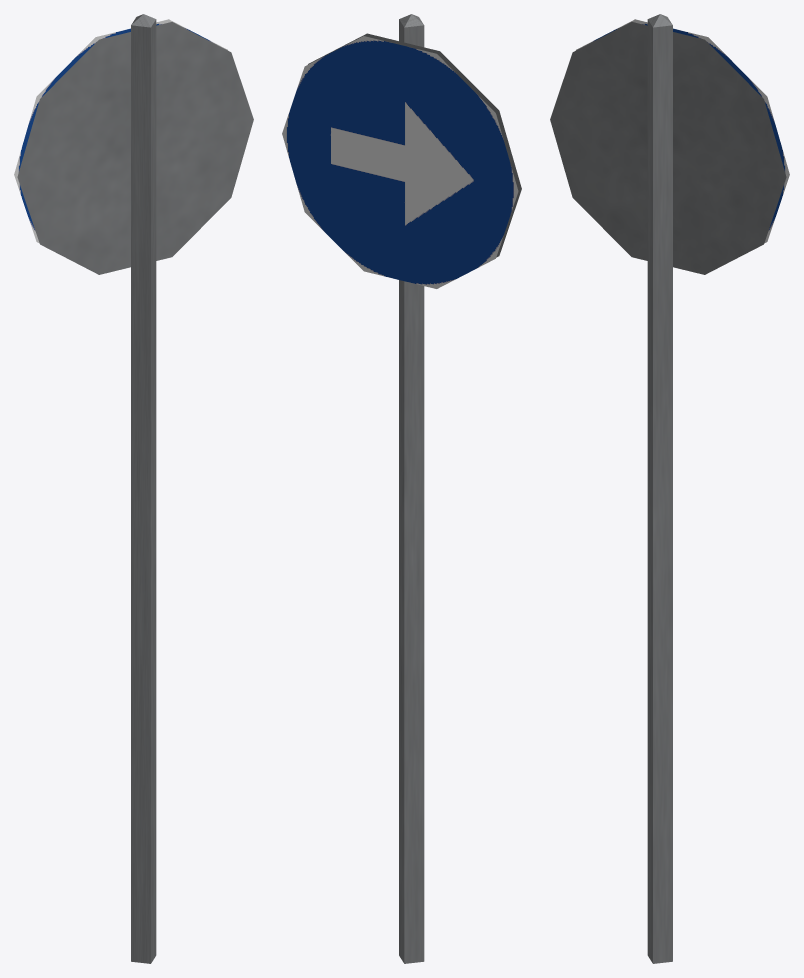
The model's file is SM_Morin_CartelloObbligoDestra_LOD2.fbx.
3 renders of one model, left to right at view 1: azimuth 30°, elevation 25°; view 2: azimuth 150°, elevation 25°; view 3: azimuth 330°, elevation 25°, orthographic.
Parts seen in each view (by area): view 1: SM_Morin_CartelloObbligoDestra_LOD2; view 2: SM_Morin_CartelloObbligoDestra_LOD2; view 3: SM_Morin_CartelloObbligoDestra_LOD2.
Part boxes in pixels (<box>): SM_Morin_CartelloObbligoDestra_LOD2: <box>14,14,253,963</box>; SM_Morin_CartelloObbligoDestra_LOD2: <box>282,14,521,963</box>; SM_Morin_CartelloObbligoDestra_LOD2: <box>550,14,789,963</box>.
Bounding box in the file's own units: 60 × 8.2 × 229.
1 material, 1 textured.
